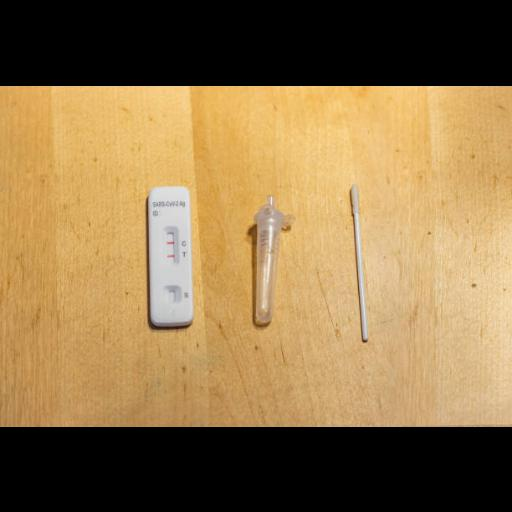Pos: (148, 186, 192, 322)
